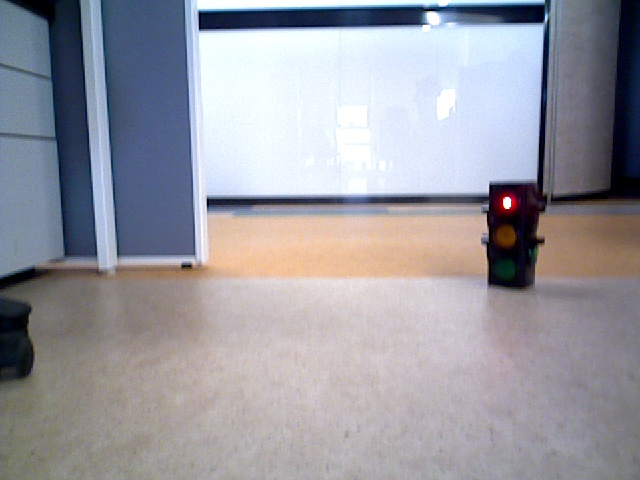red: (489, 182, 532, 287)
